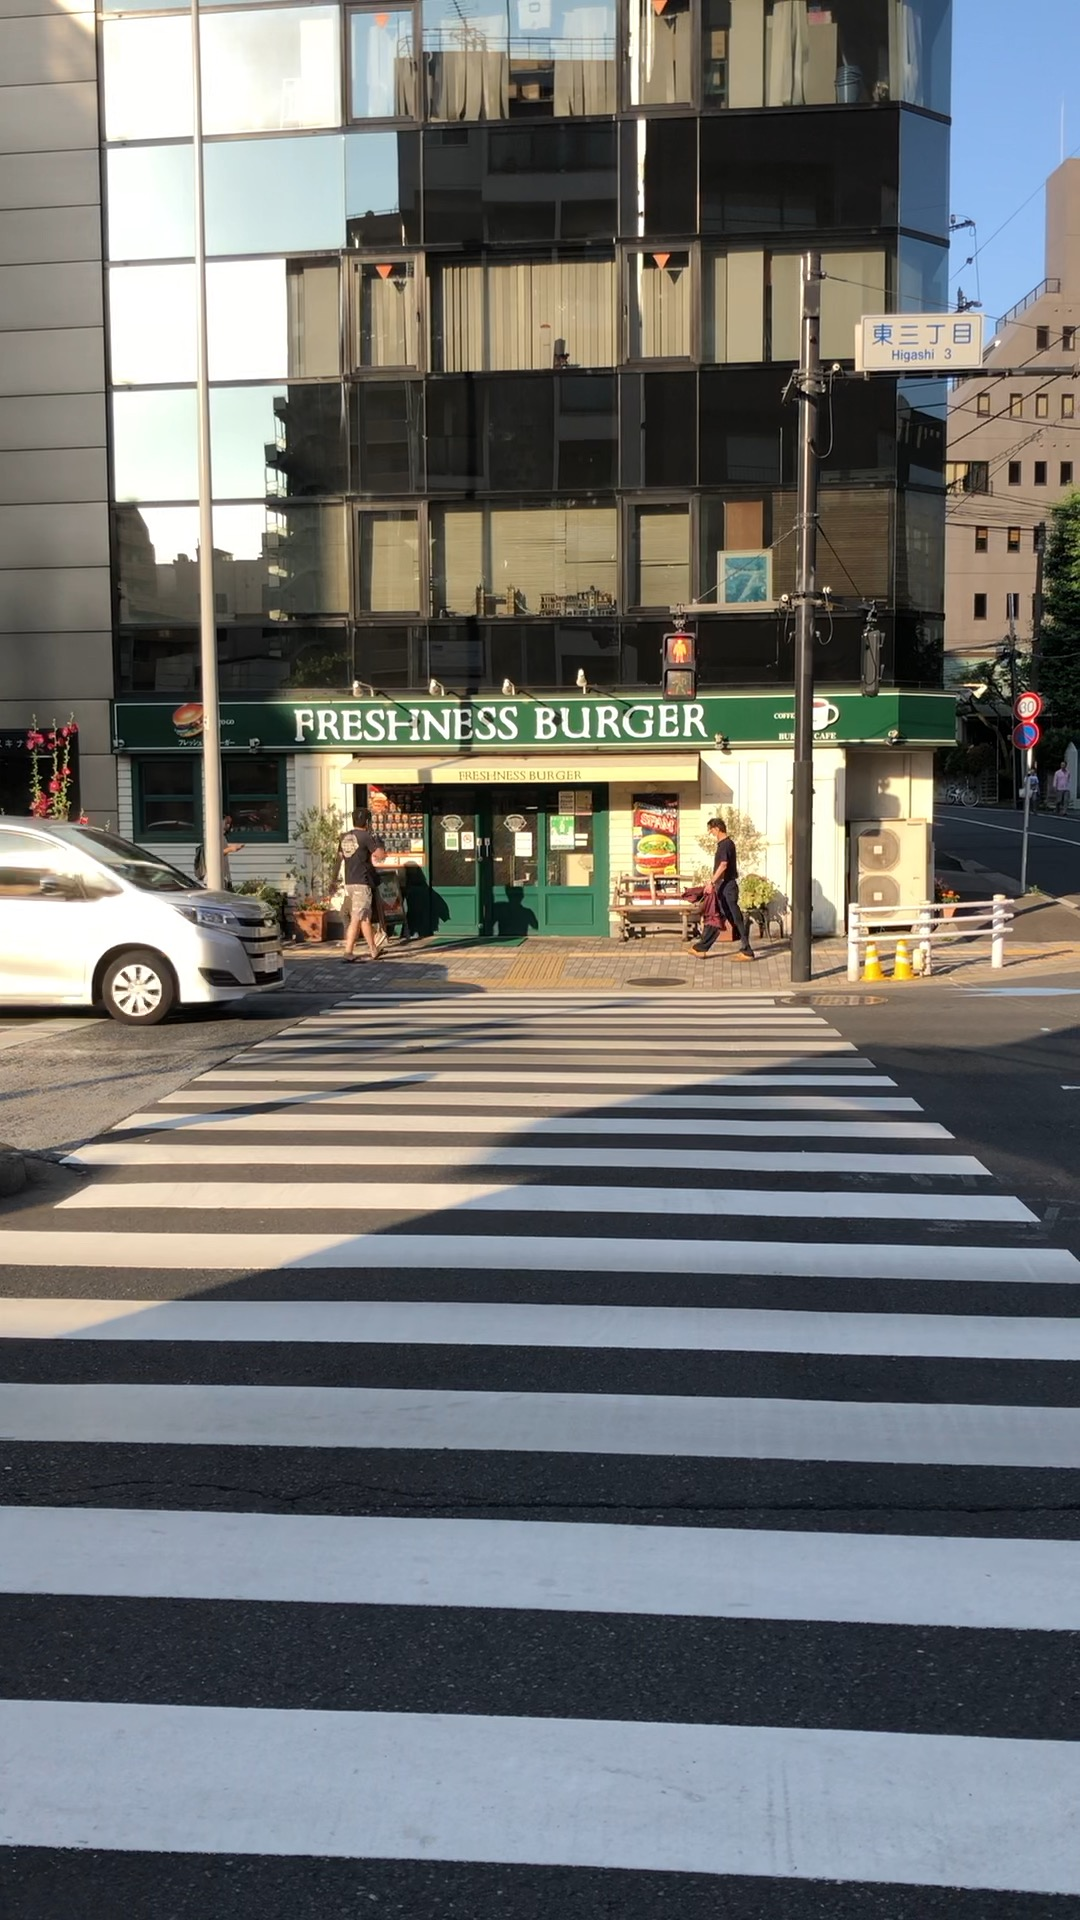red: (661, 632, 698, 700)
